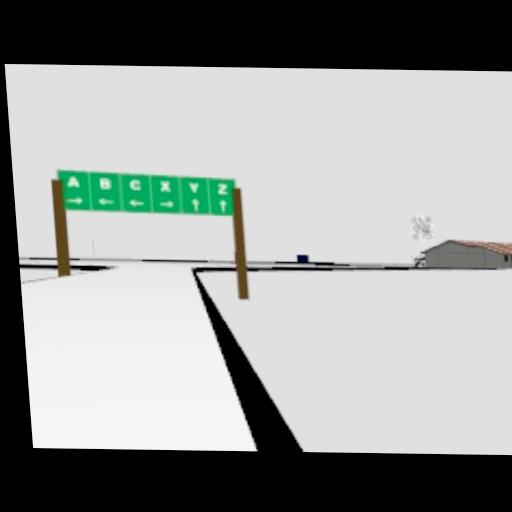A: (64, 174, 82, 190)
B: (97, 176, 112, 191)
C: (127, 178, 142, 192)
Left: (96, 196, 115, 207), (127, 199, 147, 209)
Right: (66, 196, 85, 206), (158, 199, 176, 209)
Straight: (189, 198, 203, 213), (218, 198, 230, 214)
X: (158, 179, 171, 194)
Y: (186, 181, 201, 195)
Z: (215, 181, 230, 197)
